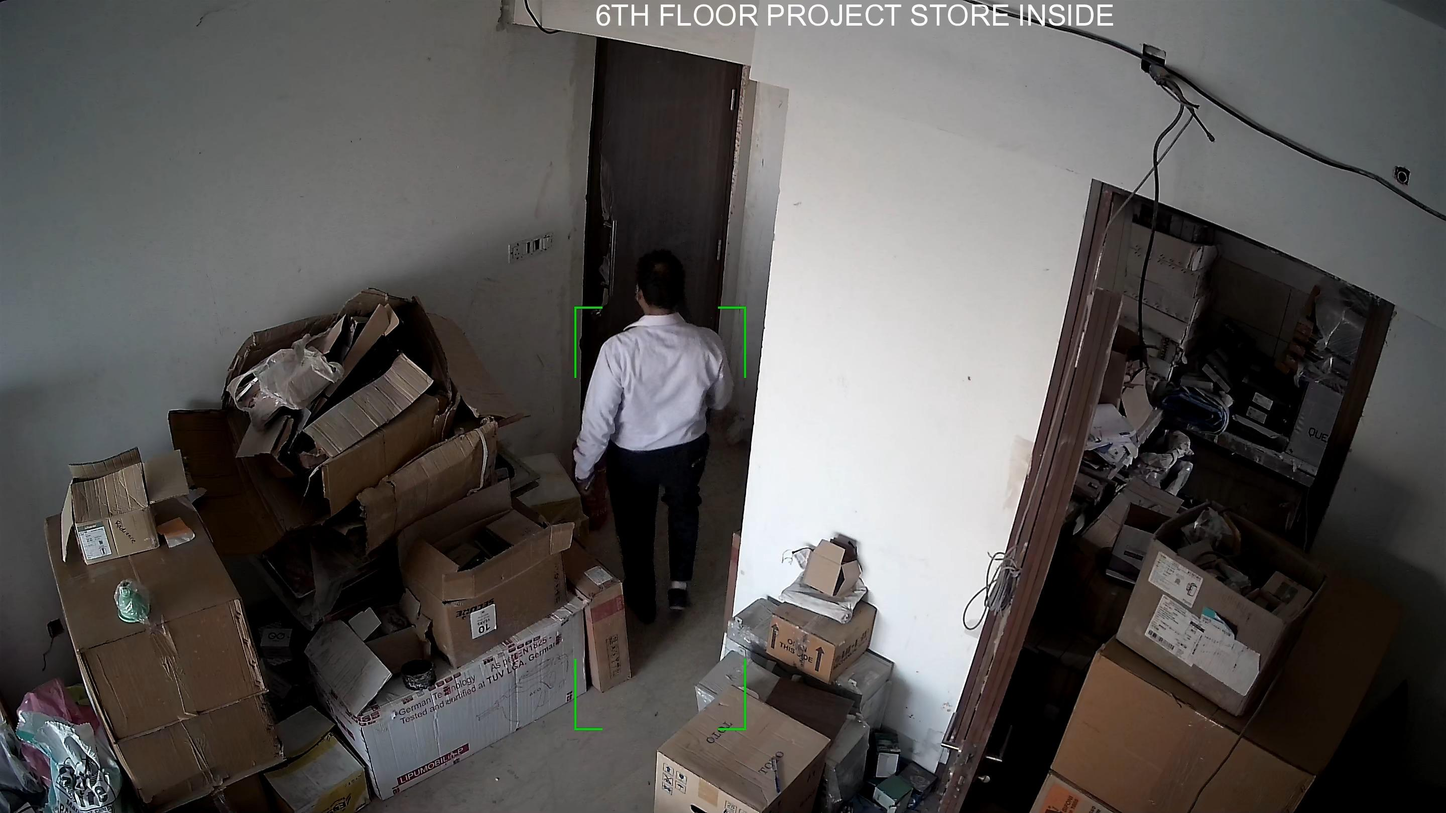Door-Close: (551, 35, 768, 559)
